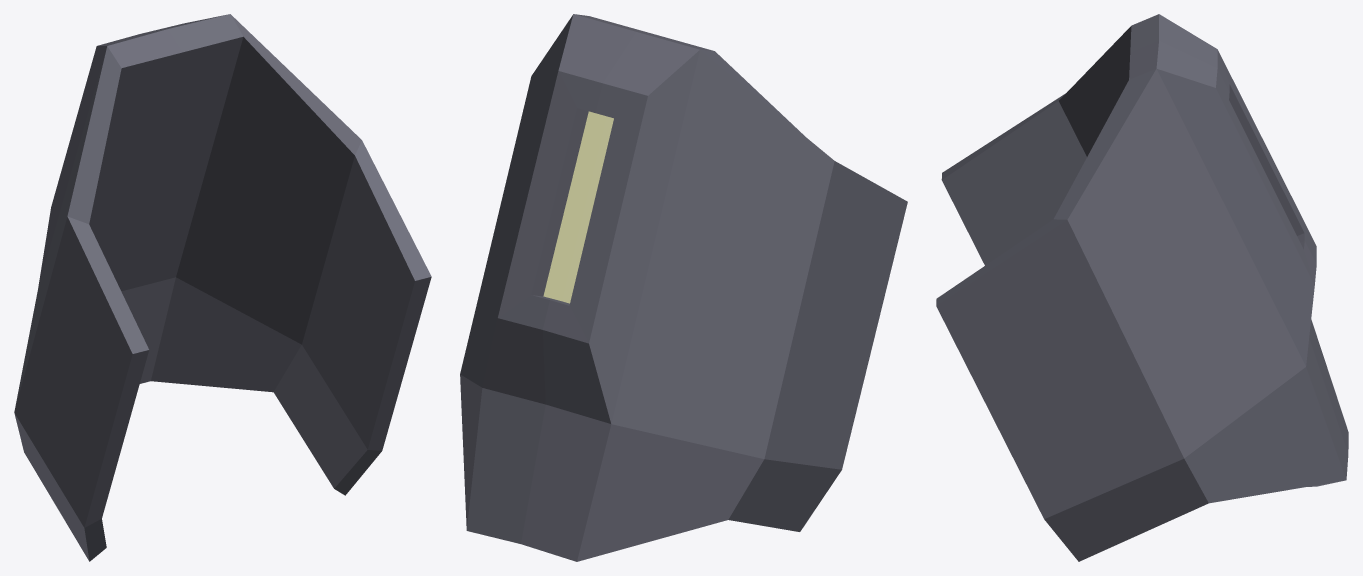
The model's file is cb_upper_arm_1.gltf.
The picture shows the model from 3 angles, left to right: view 1: azimuth 30°, elevation 25°; view 2: azimuth 150°, elevation 25°; view 3: azimuth 270°, elevation 25°; orthographic projection. The views are drawn at different scales.
Visible parts, largest first — view 1: Sphere.019; view 2: Sphere.019; view 3: Sphere.019.
Boxes of the visible parts, <box> form: Sphere.019: <box>14,14,431,561</box>; Sphere.019: <box>460,14,907,561</box>; Sphere.019: <box>936,14,1348,561</box>.
Bounding box in the file's own units: 1.28 × 1.93 × 1.56.
